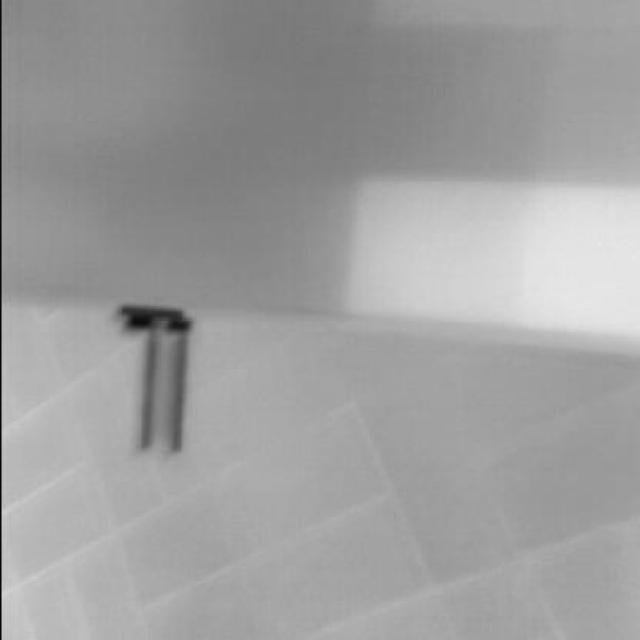hotspot: (347, 175, 640, 342)
